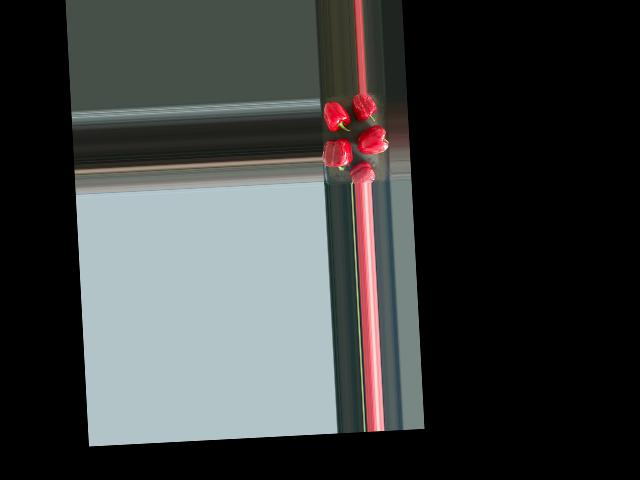bell_pepper: (347, 159, 380, 183)
